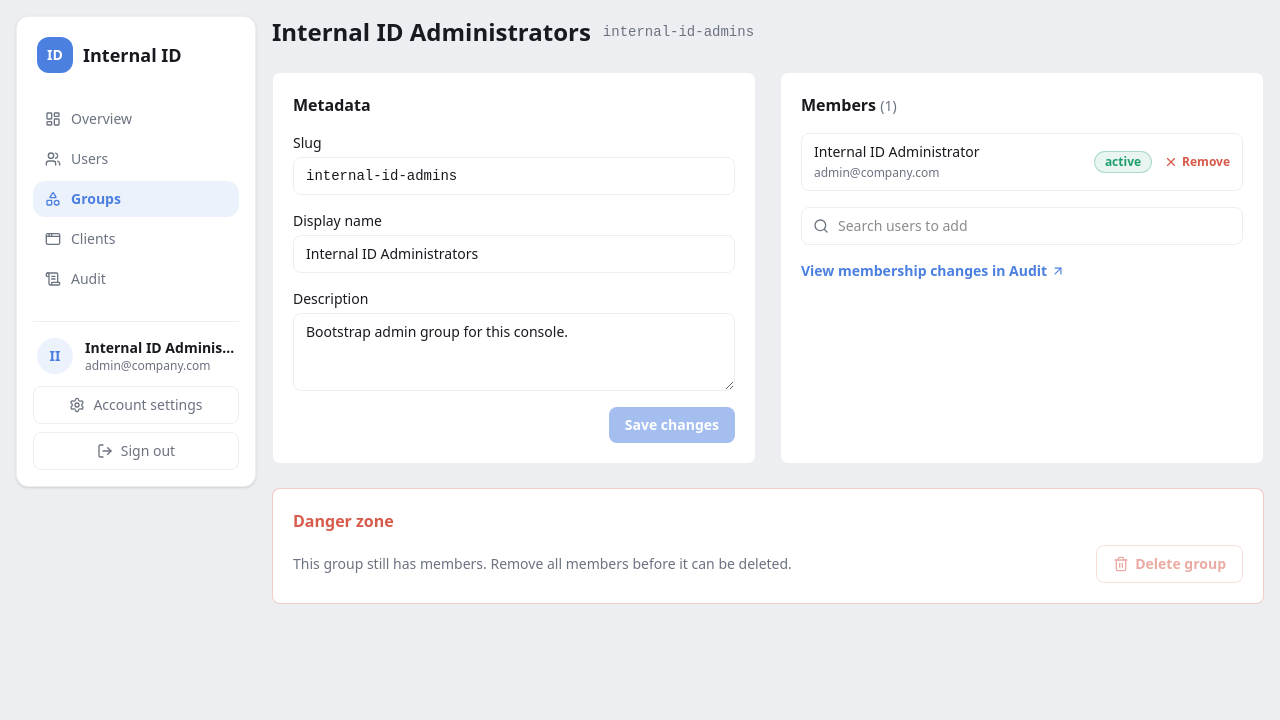
it: renaming the bootstrap admin group slug shows a warning
Expected: the heading "Internal ID Administrators" is shown, [272,16,591,48]
Replace the text in the field labelled "Slug" with "renamed-admins": (514, 176) [293,157,735,195]
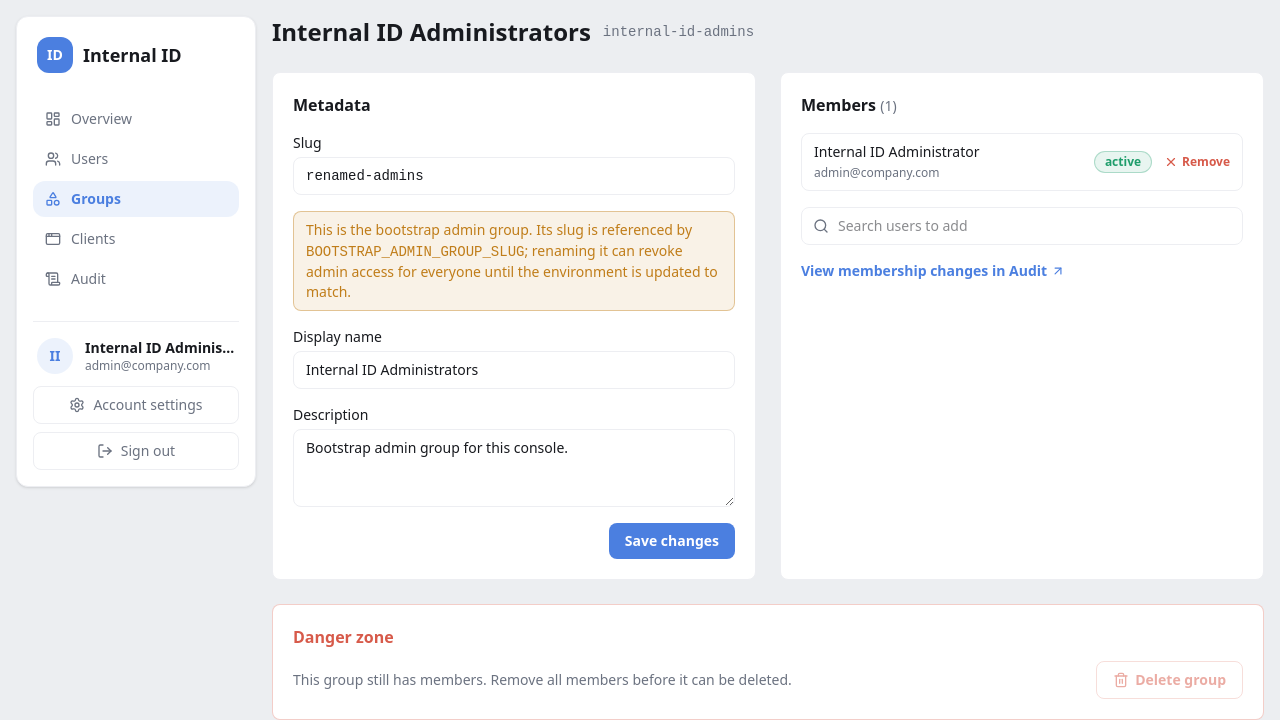
Expected: the text "BOOTSTRAP_ADMIN_GROUP_SLUG" is shown, [306,244,524,260]
